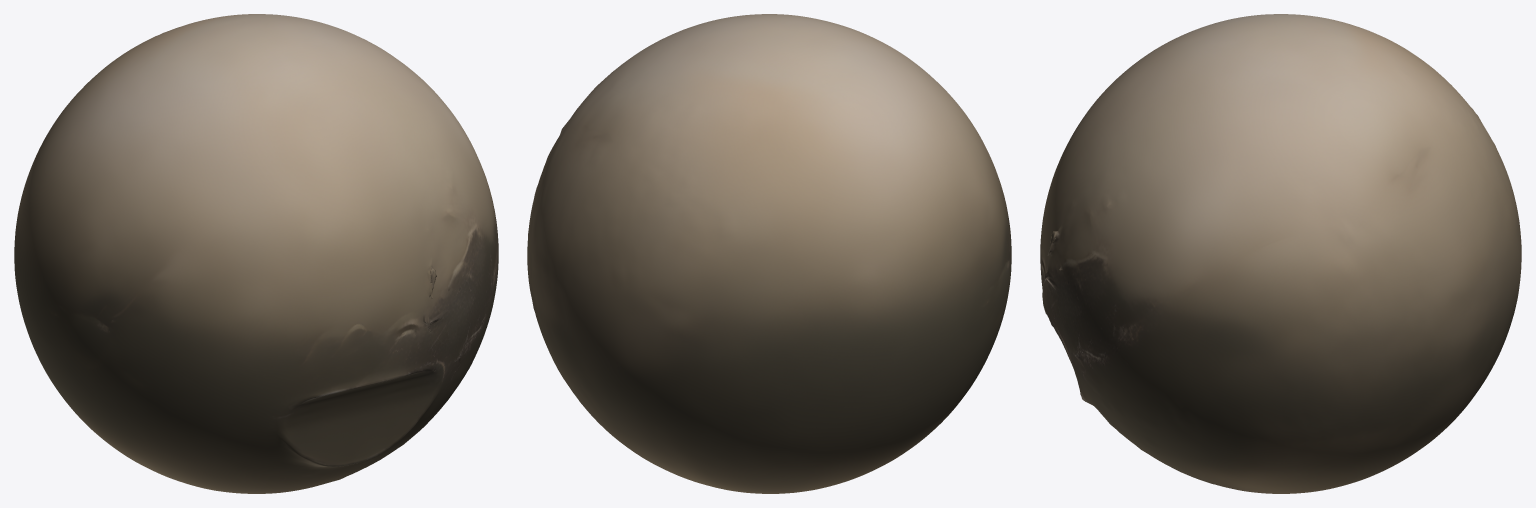
3 renders of one model, left to right at view 1: azimuth 30°, elevation 25°; view 2: azimuth 150°, elevation 25°; view 3: azimuth 270°, elevation 25°, orthographic.
Parts seen in each view (by area): view 1: model; view 2: model; view 3: model.
Boxes of the visible parts, x1,y1,x2,y2 form: model: (14, 14, 498, 493); model: (527, 14, 1011, 493); model: (1040, 14, 1521, 493).
Bounding box in the file's own units: 1.9 × 1.88 × 1.89.
Materials: 1 (1 with a texture image).
